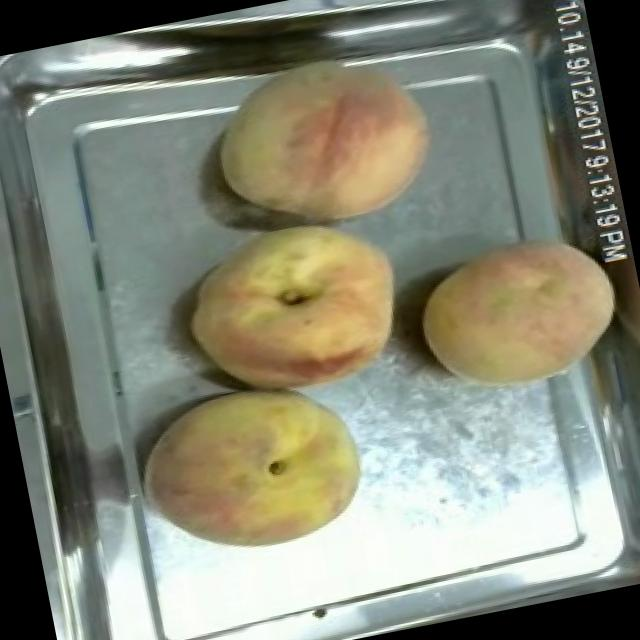Fruit: (168, 198, 425, 420), (194, 28, 452, 248), (120, 362, 382, 578), (401, 214, 636, 412)
